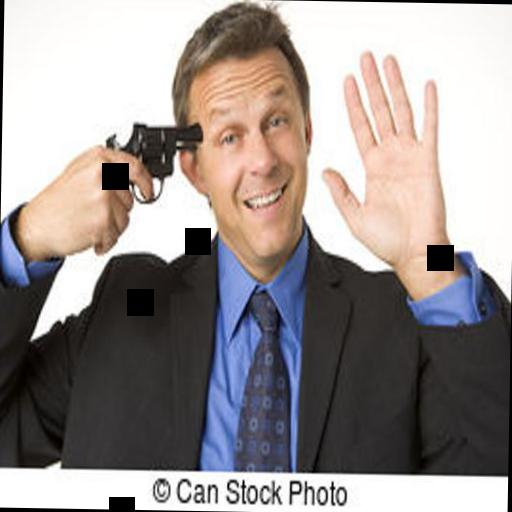Handgun: (104, 117, 204, 209)
